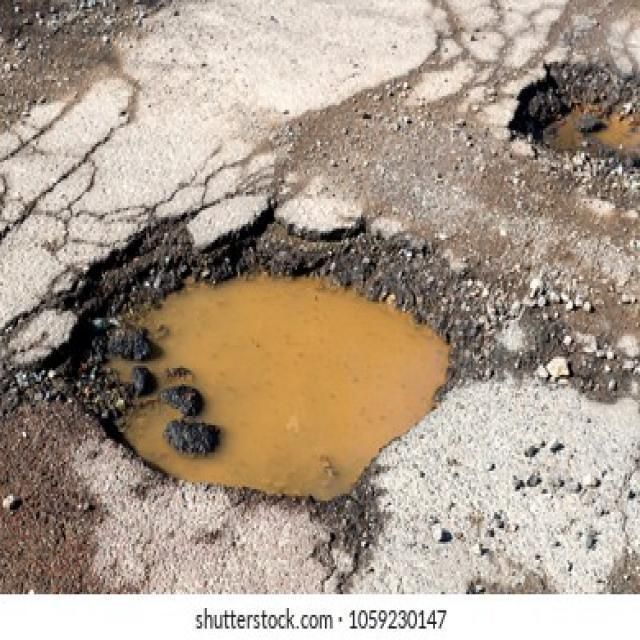pothole: (53, 217, 467, 508), (505, 60, 640, 165)
